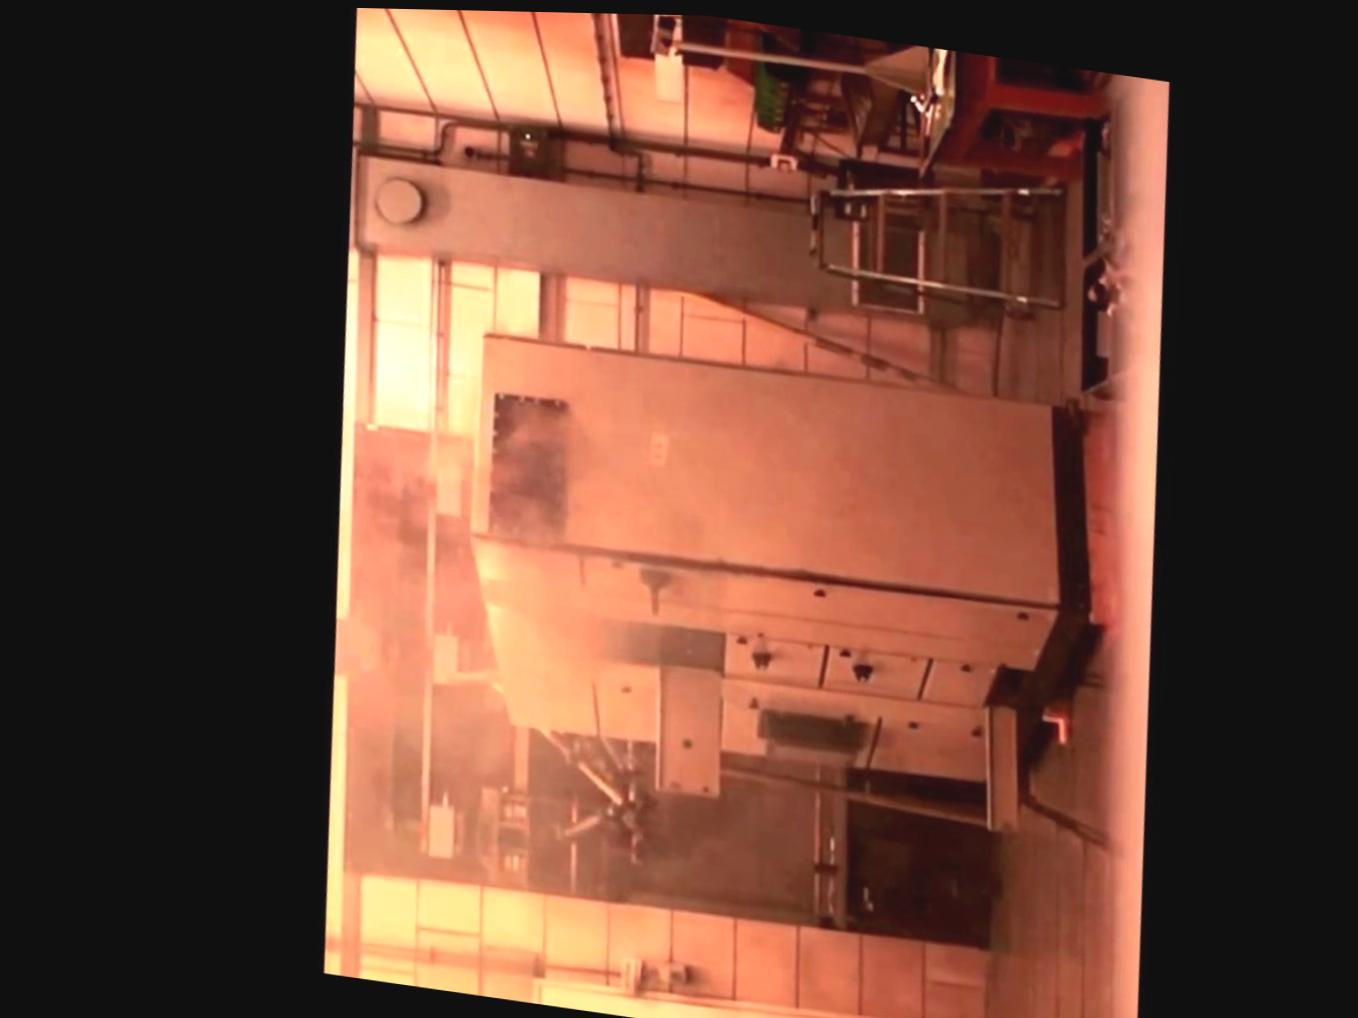fire: (351, 135, 849, 962)
